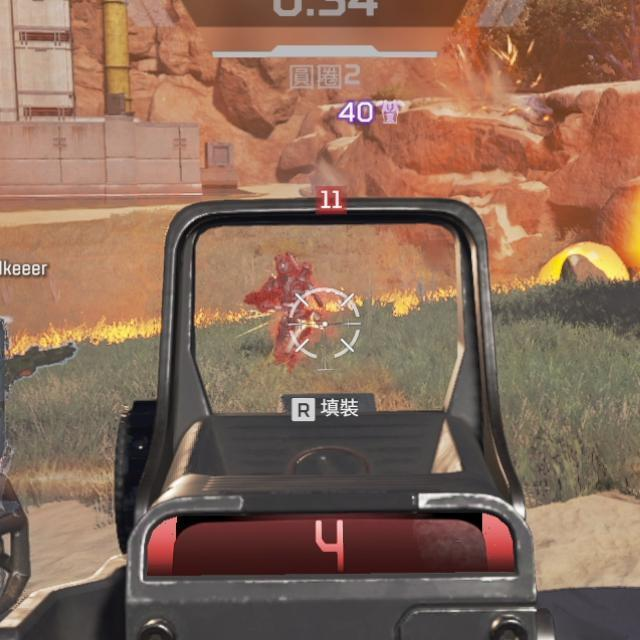avatar: (265, 251, 316, 372)
